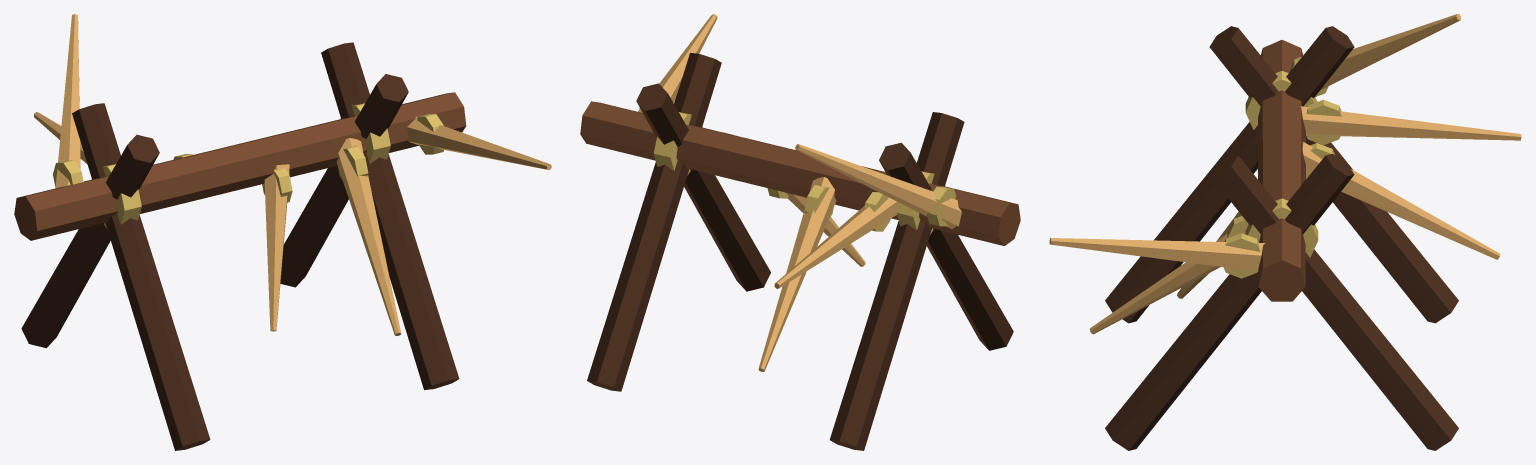
Rendered from barricade_spike 2.glb.
The picture shows the model from 3 angles, left to right: view 1: azimuth 30°, elevation 25°; view 2: azimuth 150°, elevation 25°; view 3: azimuth 270°, elevation 25°; orthographic projection. The views are drawn at different scales.
Visible parts, largest first — view 1: Spine, Cross_0, Cross_2, Cross_1, Cross_3, Spike_4, Spike_5, Spike_3, Spike_0, Cross_Lash_0, Cross_Lash_1; view 2: Spine, Cross_3, Cross_1, Cross_2, Cross_0, Spike_0, Spike_2, Spike_1, Spike_5, Cross_Lash_1, Spike_3, Spike_Lash_0 (+2 smaller); view 3: Cross_3, Cross_2, Spine, Cross_1, Cross_0, Spike_1, Spike_5, Spike_2, Spike_0, Spike_4, Cross_Lash_1, Spike_Lash_1 (+2 smaller).
Part boxes in pixels (x1,y1,x2,y2): Spine: [14, 92, 466, 240]; Cross_0: [72, 103, 210, 450]; Cross_2: [321, 42, 459, 390]; Cross_1: [21, 134, 159, 348]; Cross_3: [280, 74, 408, 287]; Spike_4: [336, 138, 401, 335]; Spike_5: [407, 116, 551, 170]; Spike_3: [264, 164, 289, 331]; Spike_0: [55, 14, 80, 188]; Cross_Lash_0: [91, 164, 141, 228]; Cross_Lash_1: [340, 103, 390, 163]; Spine: [580, 101, 1020, 245]; Cross_3: [587, 52, 721, 391]; Cross_1: [829, 112, 964, 450]; Cross_2: [636, 83, 770, 291]; Cross_0: [879, 142, 1013, 350]; Spike_0: [795, 144, 961, 228]; Spike_2: [758, 177, 836, 371]; Spike_1: [774, 197, 898, 288]; Spike_5: [638, 14, 717, 112]; Cross_Lash_1: [654, 112, 702, 175]; Spike_3: [787, 193, 865, 266]; Spike_Lash_0: [926, 186, 956, 226]; Cross_3: [1209, 153, 1458, 450]; Cross_2: [1105, 153, 1354, 450]; Spine: [1258, 40, 1305, 301]; Cross_1: [1209, 26, 1458, 323]; Cross_0: [1105, 26, 1354, 323]; Spike_1: [1300, 106, 1521, 140]; Spike_5: [1049, 238, 1264, 271]; Spike_2: [1302, 142, 1500, 259]; Spike_0: [1321, 14, 1461, 89]; Spike_4: [1089, 226, 1247, 334]; Cross_Lash_1: [1245, 198, 1318, 257]; Spike_Lash_1: [1306, 99, 1341, 145].
Bounding box in the file's own units: 2 × 1.4 × 1.81.
